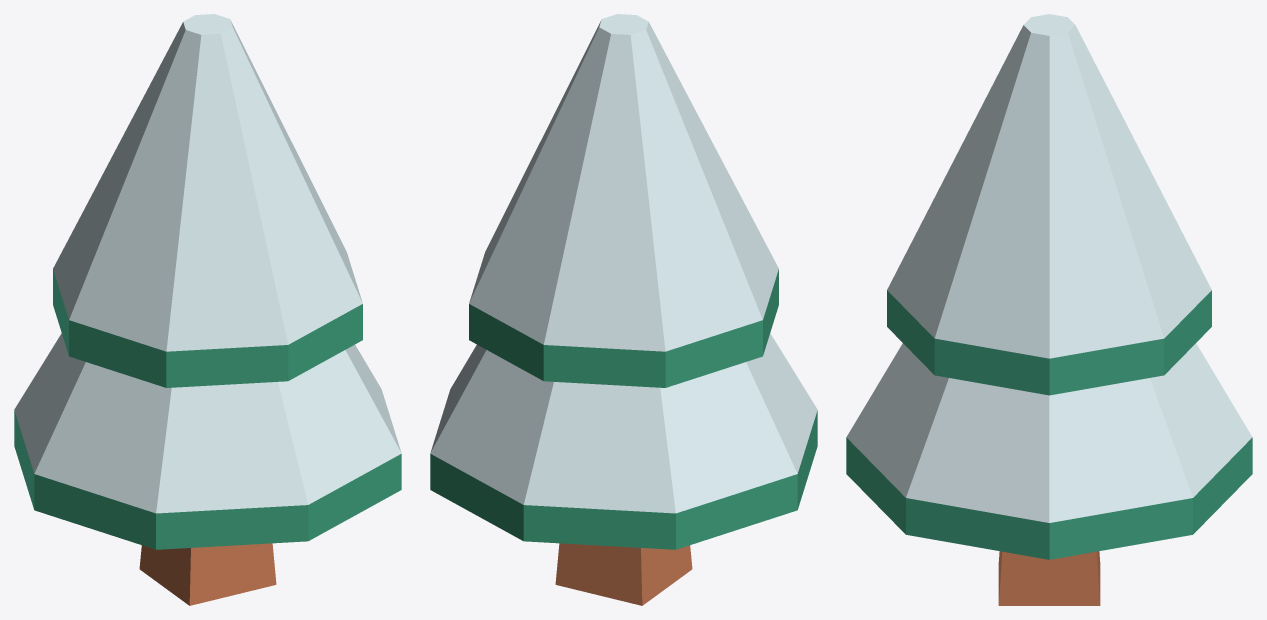
File: snow_detail_treeLarge.dae
3 renders of one model, left to right at view 1: azimuth 30°, elevation 25°; view 2: azimuth 150°, elevation 25°; view 3: azimuth 270°, elevation 25°, orthographic.
Parts seen in each view (by area): view 1: snow_detail_treeLarge; view 2: snow_detail_treeLarge; view 3: snow_detail_treeLarge.
Part boxes in pixels (<box>): snow_detail_treeLarge: <box>14,14,401,605</box>; snow_detail_treeLarge: <box>430,14,817,605</box>; snow_detail_treeLarge: <box>846,14,1252,605</box>.
Size of the model in its own units: 0.5 by 0.76 by 0.5.
